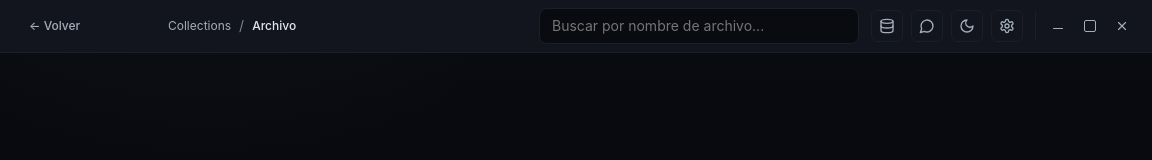
TopBar › keeps results open while focus moves within the search container
Type "acta" into the dropdown named "Buscar archivos" at (699, 26), box [539,8,859,44]
Wait 550 ms
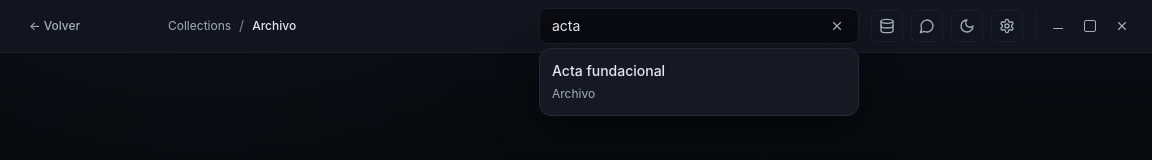
Check: the option "Acta fundacional Archivo" is shown, box [540,49,858,115]
Leave the dropdown named "Buscar archivos", box [539,8,859,44]
Check: the option "Acta fundacional Archivo" is shown, box [540,49,858,115]
Leave the dropdown named "Buscar archivos", box [539,8,859,44]
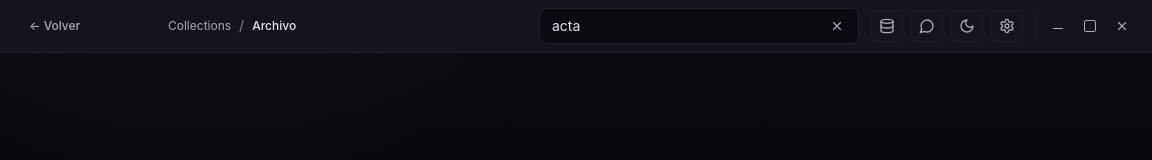
Check: the option "Acta fundacional" is gone
